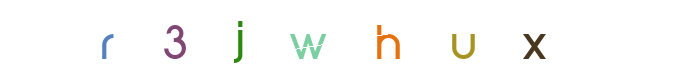3: (199, 0, 279, 80)
H: (302, 0, 382, 80)
J: (220, 0, 300, 80)
R: (174, 0, 254, 80)
U: (380, 0, 460, 80)
W: (286, 0, 366, 80)
X: (494, 0, 574, 80)
